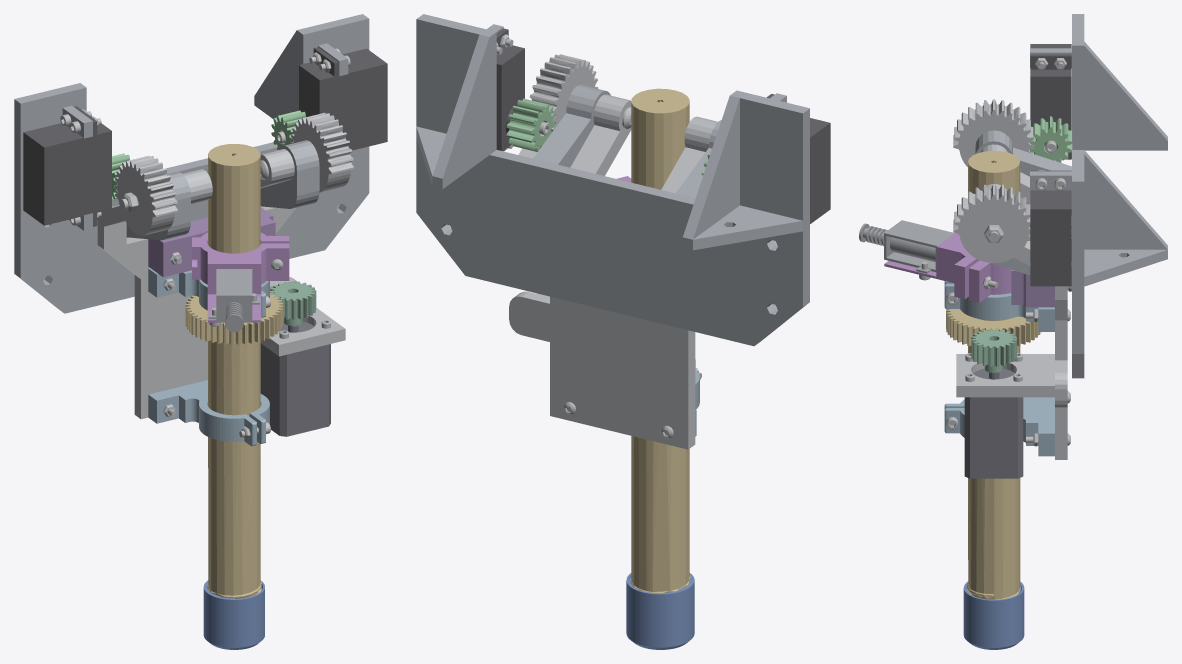
The model's file is full_assembly.glb.
3 views of the same model, side by side, from view 1: azimuth 30°, elevation 25°; view 2: azimuth 150°, elevation 25°; view 3: azimuth 270°, elevation 25° (orthographic). The views are drawn at different scales.
Parts seen in each view (by area): view 1: Baseplate, Auger, Mounting plate, Servo MG996R (+X), Servo MG996R (-X), Stepper (NEMA 11), Bracket (rear), Tap collar, Auger cap, Solenoid (Adafruit 412), Tap collar base (AI), Bracket (front) (+2 smaller); view 2: Baseplate, Mounting plate, Auger, Auger cap, Servo MG996R (-X), Servo MG996R (+X), Servo pinion (-X); view 3: Baseplate, Mounting plate, Auger, Stepper (NEMA 11), Servo MG996R (-X), Tap collar, Auger cap, Servo MG996R (+X), Solenoid (Adafruit 412), Bracket (rear), Bracket (front), Stepper pinion (+2 smaller).
Boxes of the visible parts, box(x1,y1,x2,y2) form: Baseplate: box(14, 14, 369, 313); Auger: box(185, 144, 282, 598); Mounting plate: box(97, 112, 354, 419); Servo MG996R (+X): box(23, 106, 111, 226); Servo MG996R (-X): box(299, 47, 387, 150); Stepper (NEMA 11): box(260, 321, 330, 436); Bracket (rear): box(148, 380, 269, 446); Tap collar: box(192, 232, 289, 322); Auger cap: box(203, 580, 264, 649); Solenoid (Adafruit 412): box(208, 269, 259, 332); Tap collar base (AI): box(148, 207, 275, 277); Bracket (front): box(148, 268, 269, 317); Baseplate: box(416, 14, 809, 346); Mounting plate: box(509, 54, 717, 449); Auger: box(630, 88, 690, 593); Auger cap: box(626, 573, 694, 649); Servo MG996R (-X): box(496, 28, 524, 150); Servo MG996R (+X): box(766, 94, 830, 223); Servo pinion (-X): box(506, 98, 555, 151); Baseplate: box(975, 14, 1167, 378); Mounting plate: box(953, 99, 1067, 459); Auger: box(946, 151, 1041, 599); Stepper (NEMA 11): box(964, 368, 1023, 478); Servo MG996R (-X): box(1030, 170, 1071, 286); Tap collar: box(884, 233, 1011, 302); Auger cap: box(963, 581, 1024, 649); Servo MG996R (+X): box(1030, 44, 1071, 159); Solenoid (Adafruit 412): box(859, 220, 954, 273); Bracket (rear): box(944, 397, 1054, 456); Bracket (front): box(944, 281, 1054, 331); Stepper pinion: box(971, 328, 1016, 372).
Bounding box in the file's own units: 190 × 286 × 148.
